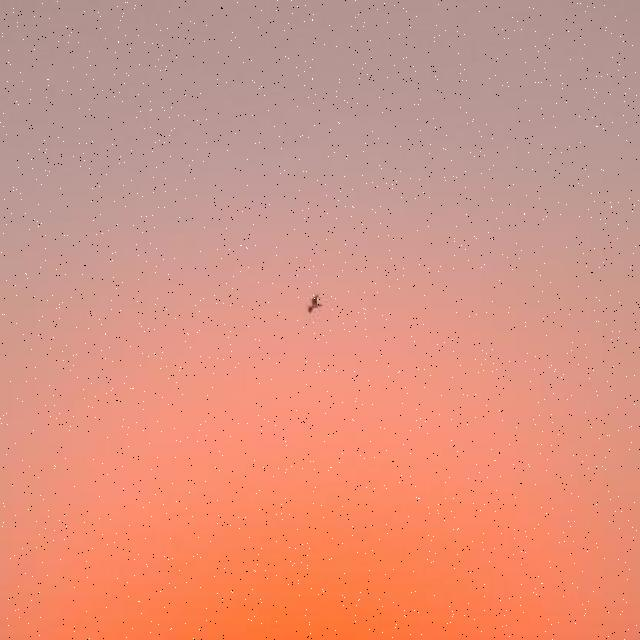bird: (306, 294, 322, 314)
